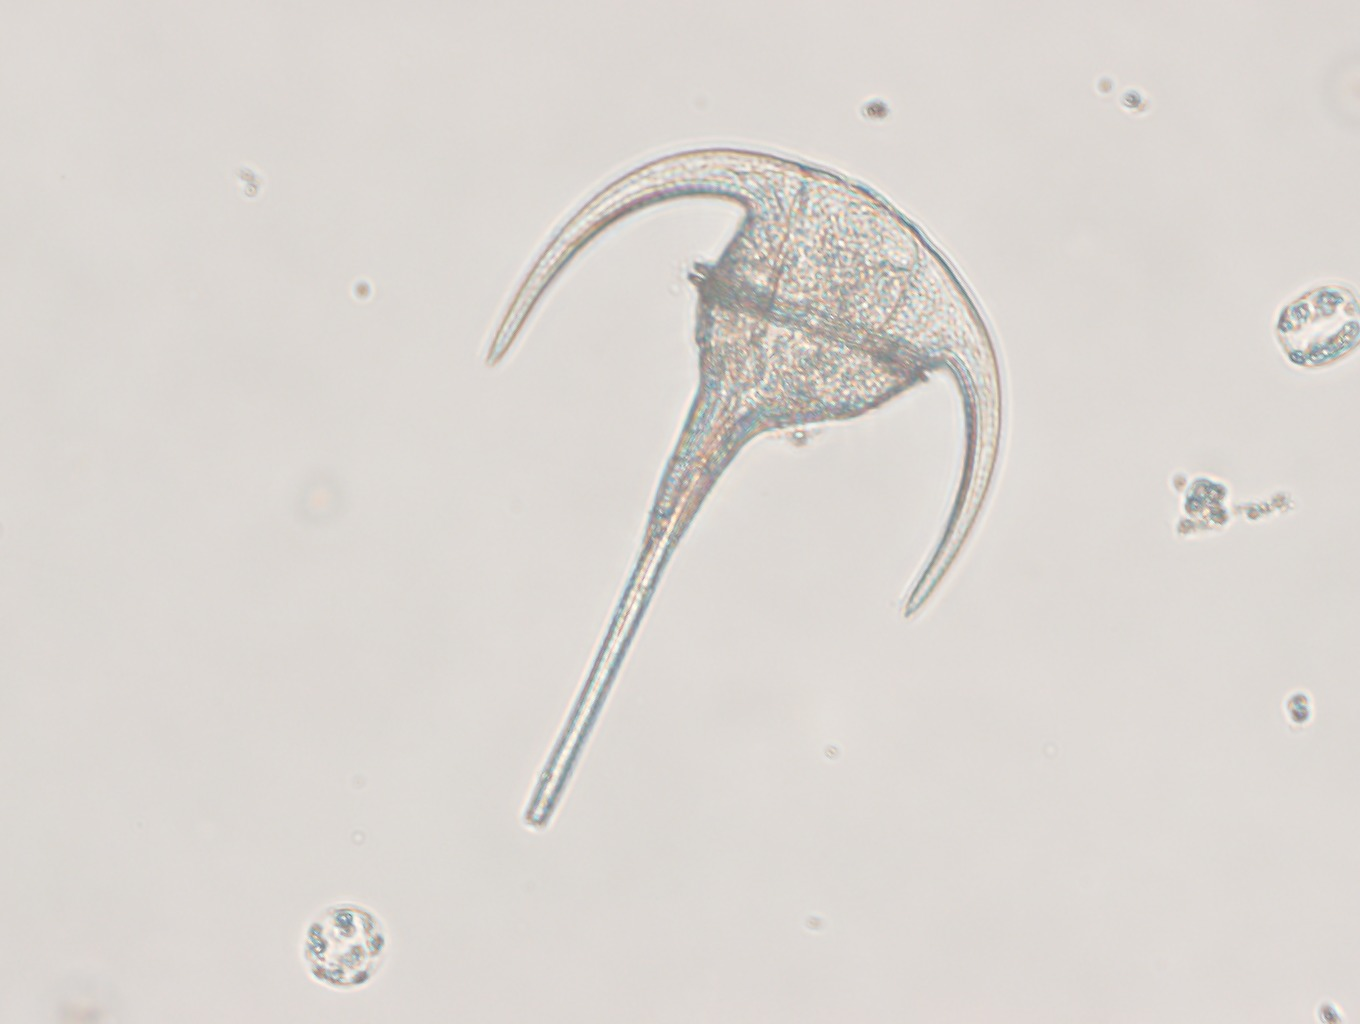ceratium tripos: (486, 148, 1007, 836)
